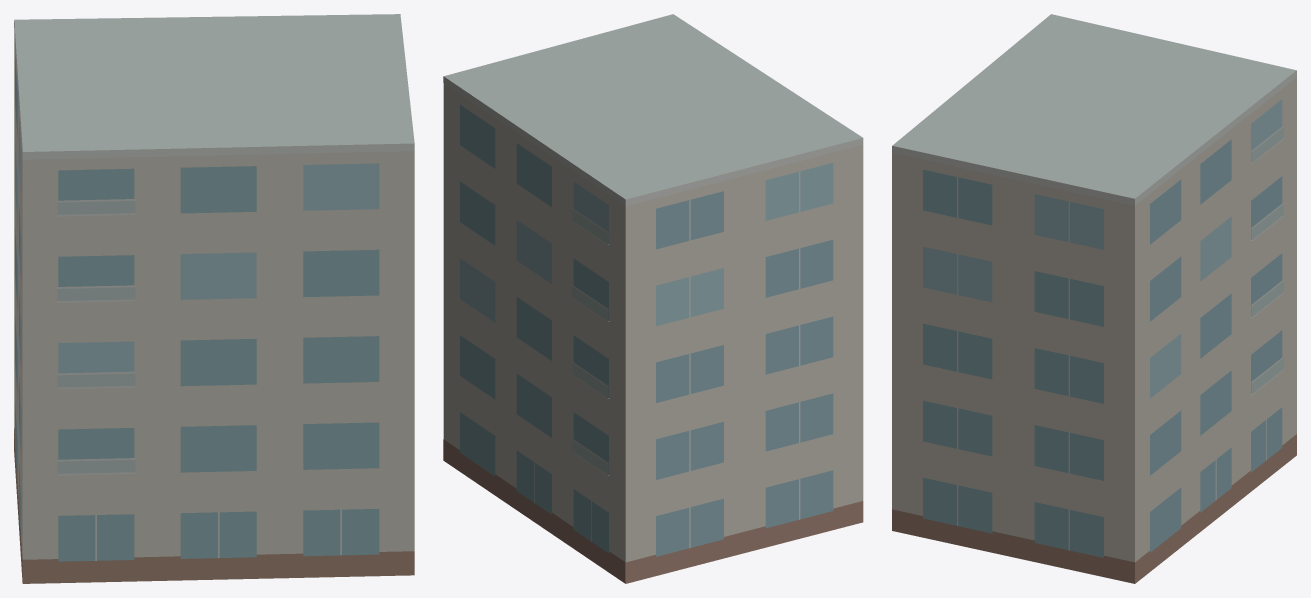
The model's file is survey-upis-32892552.glb.
3 renders of one model, left to right at view 1: azimuth 30°, elevation 25°; view 2: azimuth 150°, elevation 25°; view 3: azimuth 270°, elevation 25°, orthographic. The views are drawn at different scales.
Parts seen in each view (by area): view 1: survey-upis-32892552.tmp; view 2: survey-upis-32892552.tmp; view 3: survey-upis-32892552.tmp.
Boxes of the visible parts, x1,y1,x2,y2 form: survey-upis-32892552.tmp: (14, 14, 414, 583); survey-upis-32892552.tmp: (443, 14, 863, 583); survey-upis-32892552.tmp: (892, 14, 1296, 583).
Bounding box in the file's own units: 14.11 × 13.7 × 13.06.
